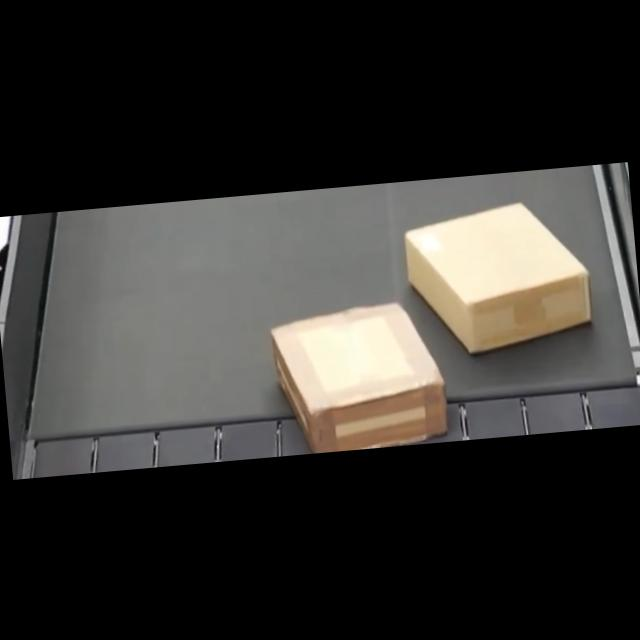box: (400, 195, 594, 356), (268, 296, 452, 455)
